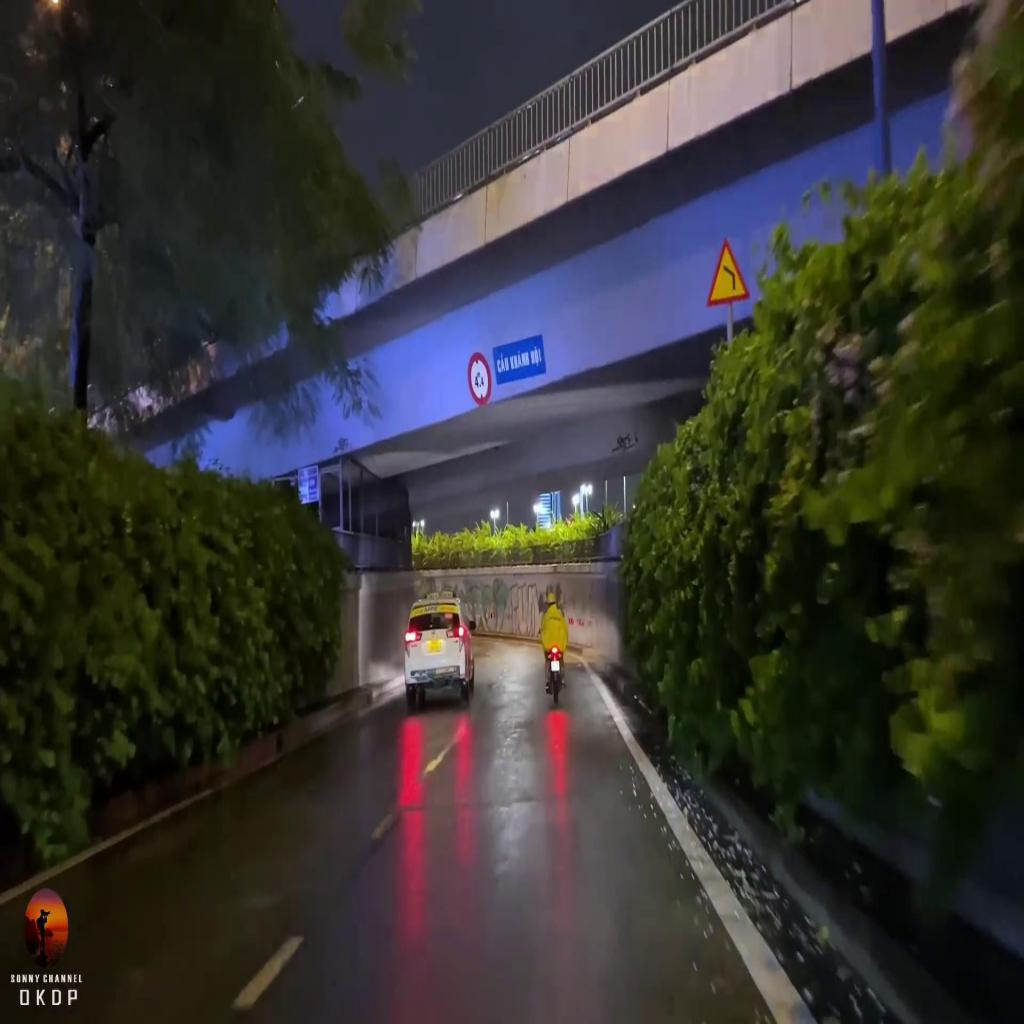cho_ngoat_nguy_hiem_ben_trai: (704, 232, 752, 308)
han_che_chieu_cao: (467, 349, 492, 403)
khac: (494, 333, 548, 388)
